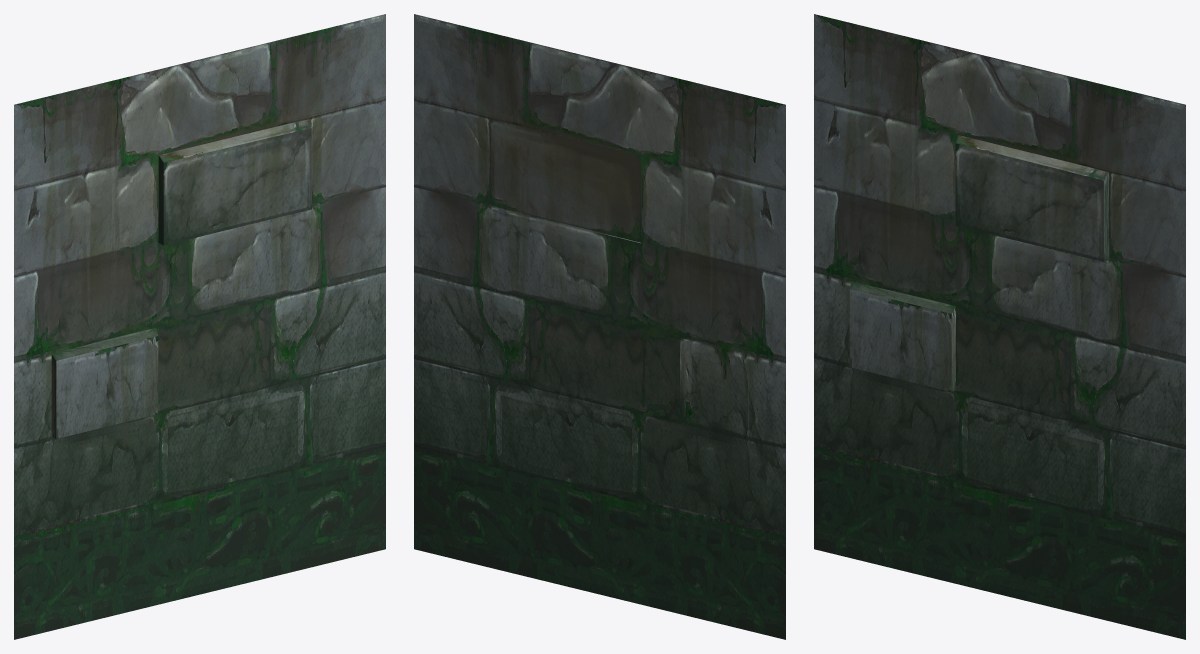
The model's file is stemple_wall_straight_07.fbx.
The picture shows the model from 3 angles, left to right: view 1: azimuth 30°, elevation 25°; view 2: azimuth 150°, elevation 25°; view 3: azimuth 330°, elevation 25°; orthographic projection.
Parts seen in each view (by area): view 1: obj1.049; view 2: obj1.049; view 3: obj1.049.
Boxes of the visible parts, <box> form: obj1.049: <box>14,14,385,639</box>; obj1.049: <box>414,14,785,639</box>; obj1.049: <box>814,14,1185,639</box>.
Bounding box in the file's own units: 4 × 5.5 × 0.0884.
